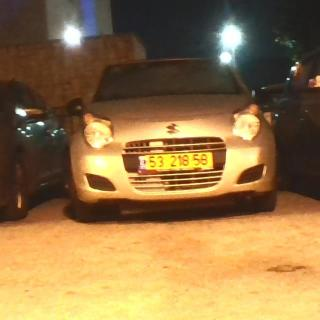LicensePlate: (146, 152, 213, 169)
